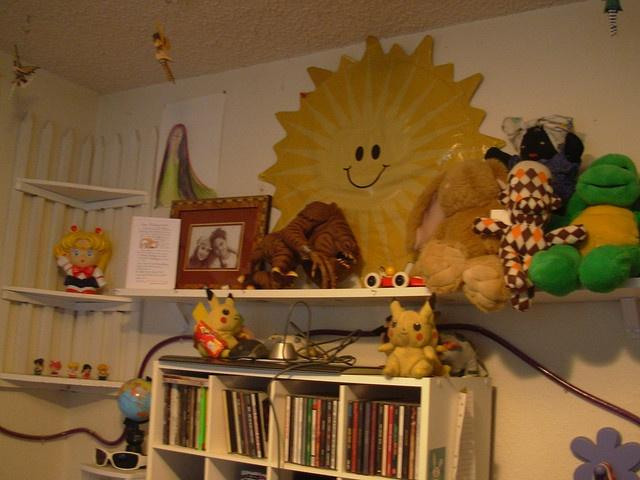Rak: (145, 361, 428, 479)
